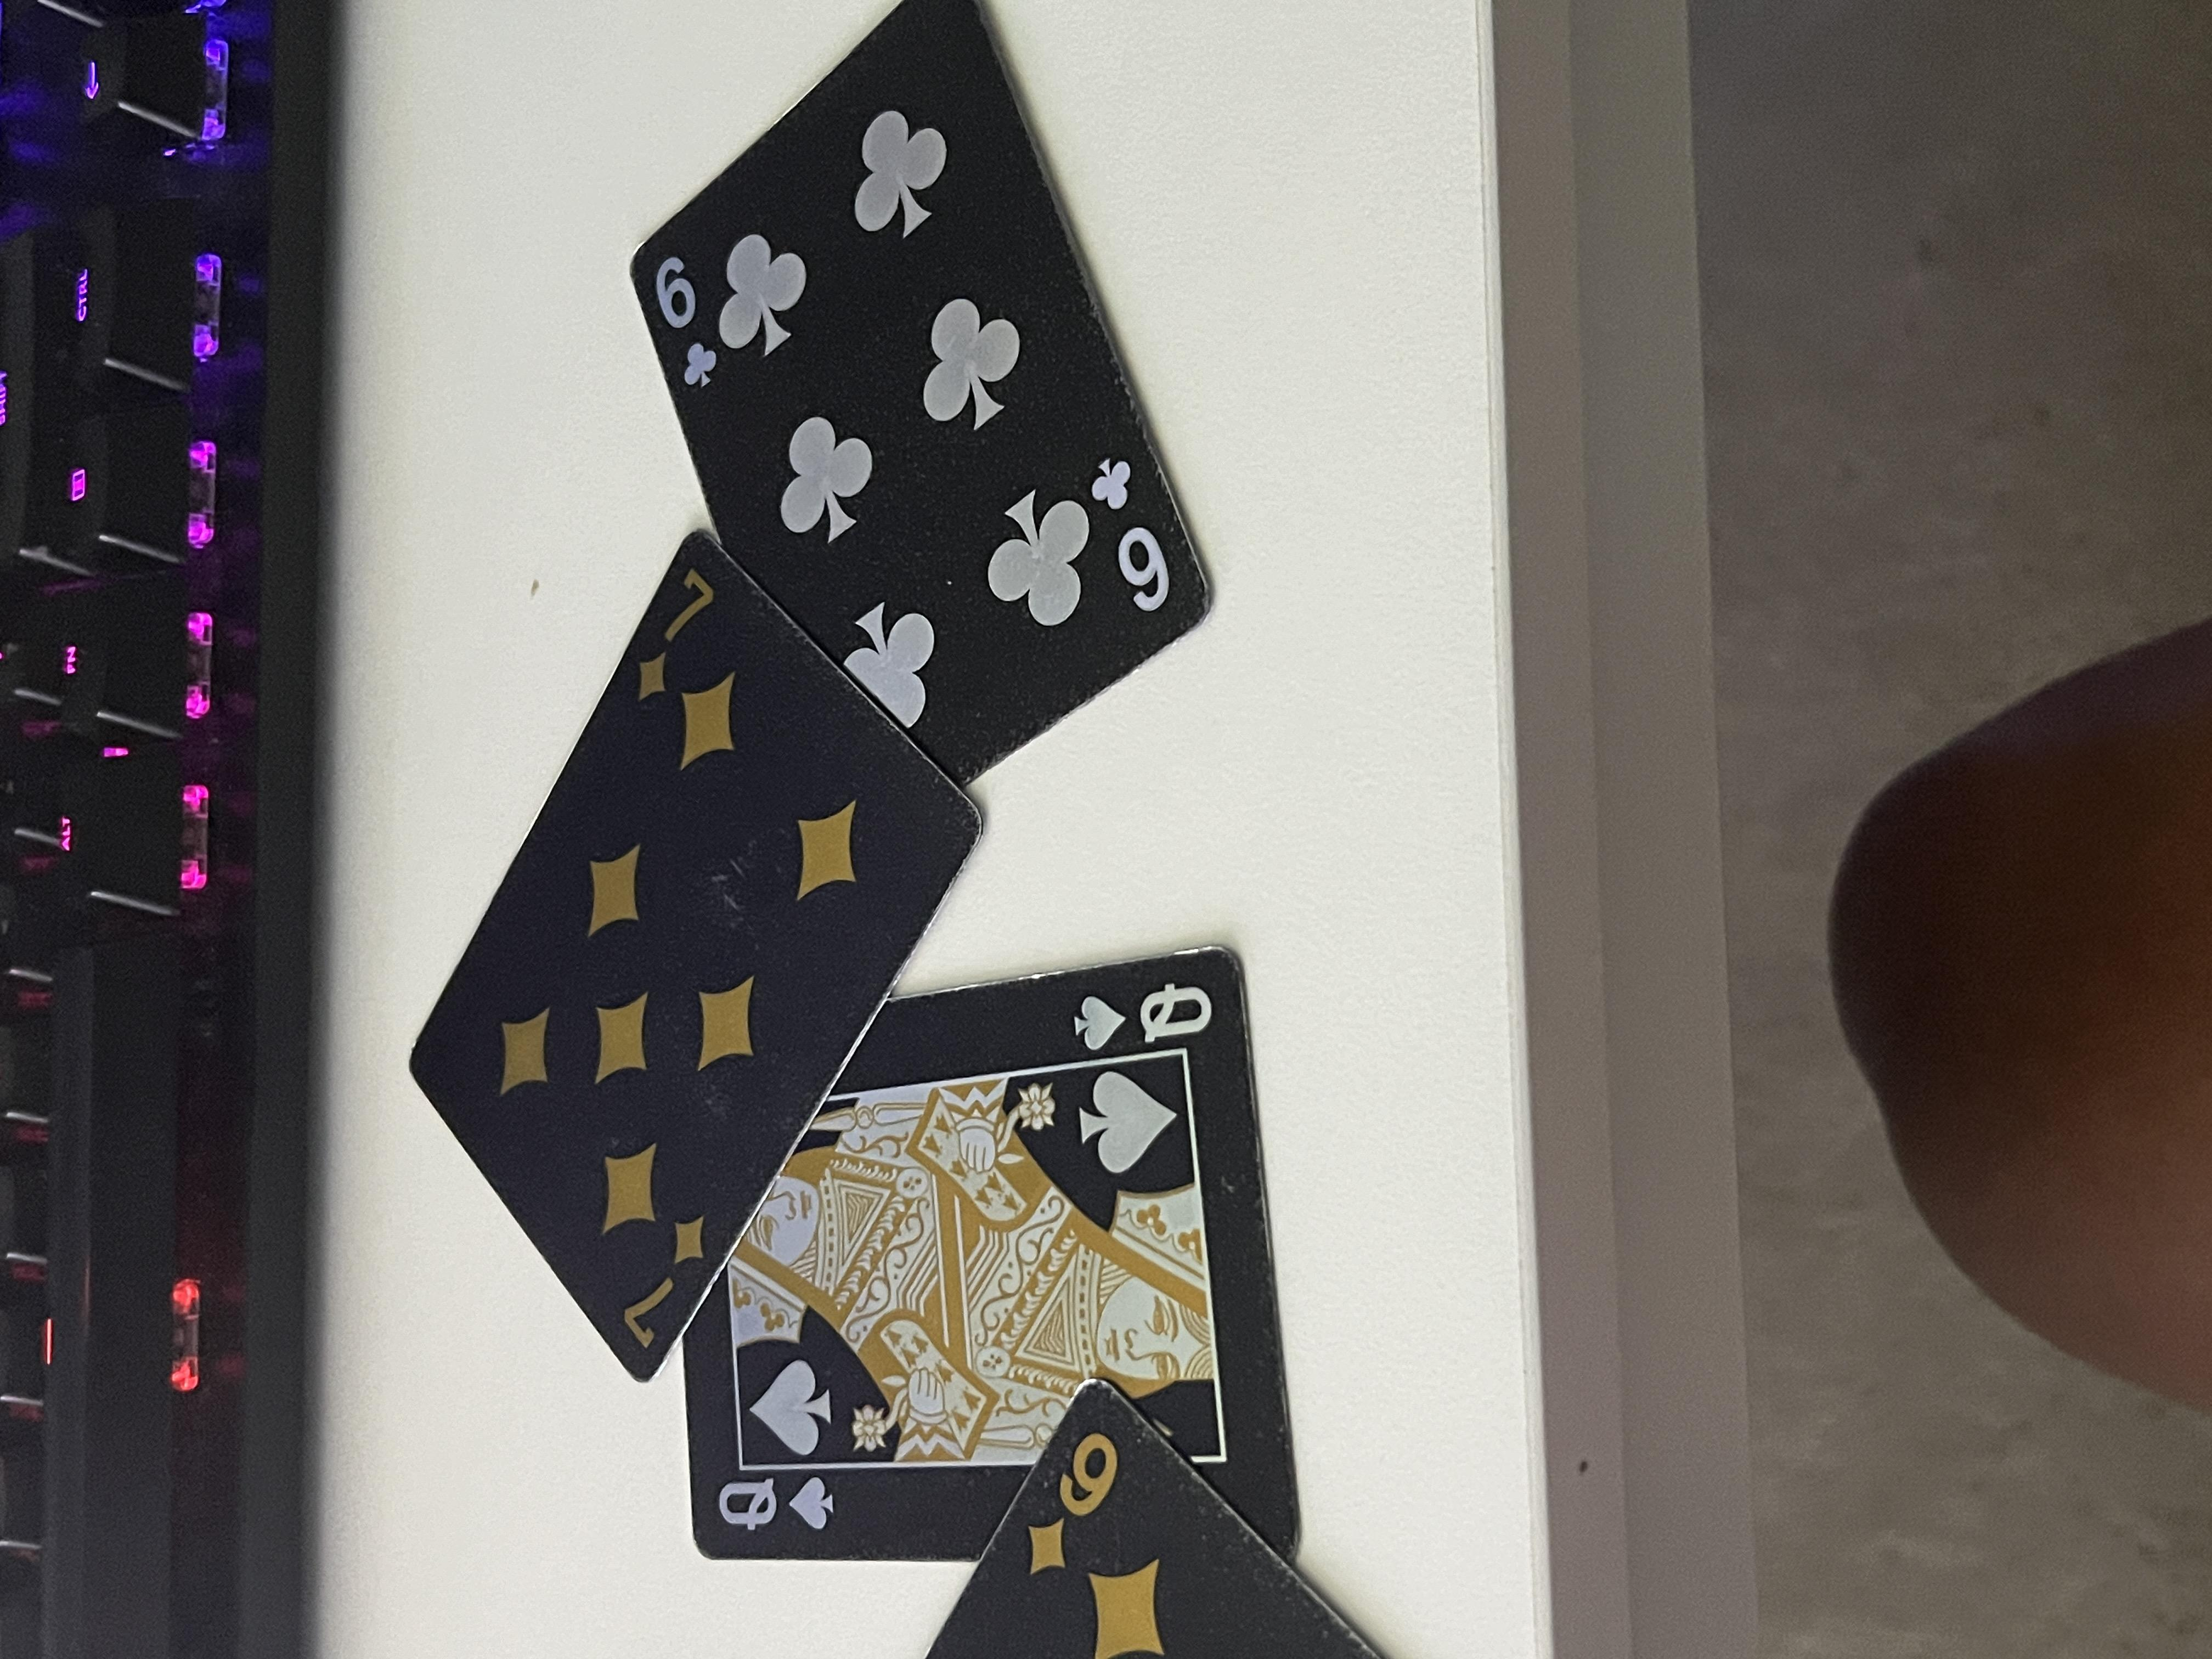6C: (1379, 804, 1628, 883), (1683, 488, 1891, 543)
7D: (417, 455, 618, 535), (1269, 463, 1459, 541)
9D: (92, 763, 318, 848)
QS: (772, 798, 922, 919), (146, 524, 256, 631)
